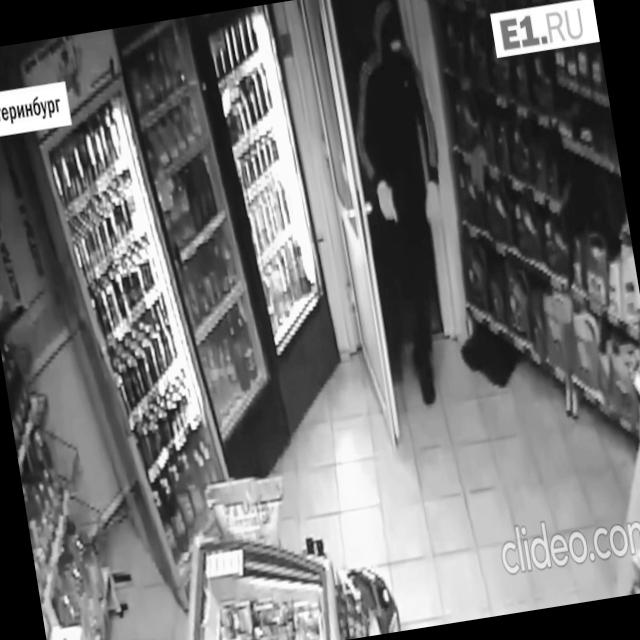gun: (388, 185, 411, 242)
person with a gun: (334, 0, 479, 411)
